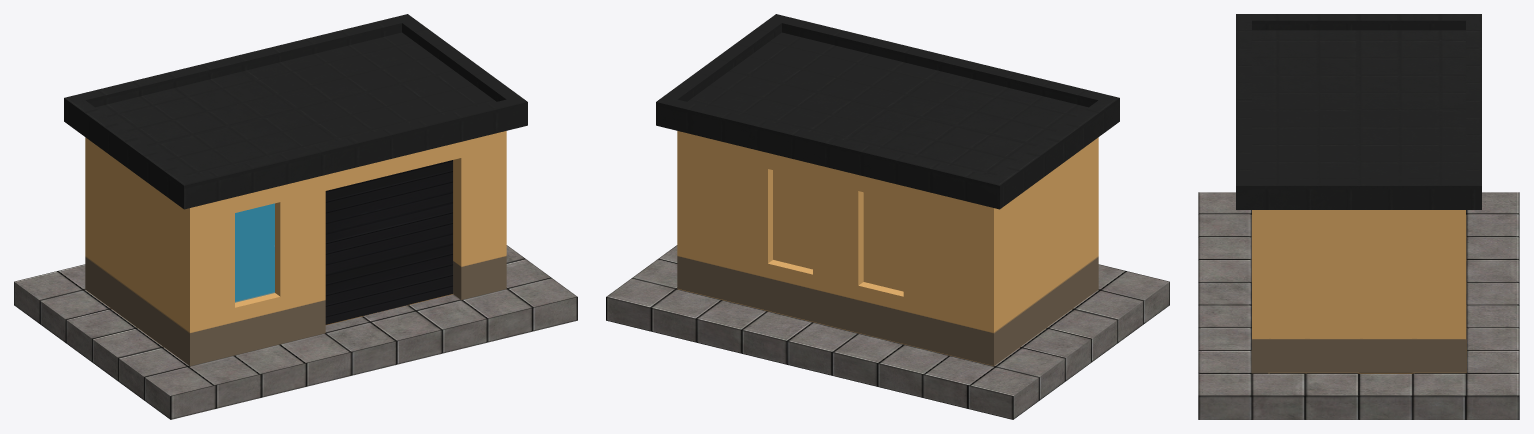
The model's file is rumah 1.fbx.
3 views of the same model, side by side, from view 1: azimuth 30°, elevation 25°; view 2: azimuth 150°, elevation 25°; view 3: azimuth 270°, elevation 25° (orthographic). The views are drawn at different scales.
Visible parts, largest first — view 1: fix; view 2: fix; view 3: fix.
Boxes of the visible parts, x1=… form: fix: x1=14, y1=14, x2=577, y2=419; fix: x1=606, y1=14, x2=1169, y2=419; fix: x1=1198, y1=14, x2=1519, y2=419.
Size of the model in its own units: 900 by 600 by 450.
1 material, 1 textured.
